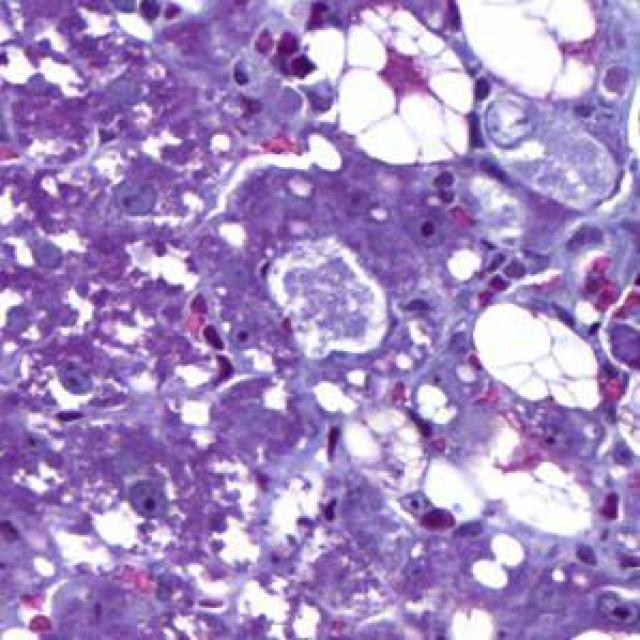ballooning: (295, 0, 479, 173), (447, 9, 610, 111), (471, 296, 606, 418), (466, 430, 602, 544)
